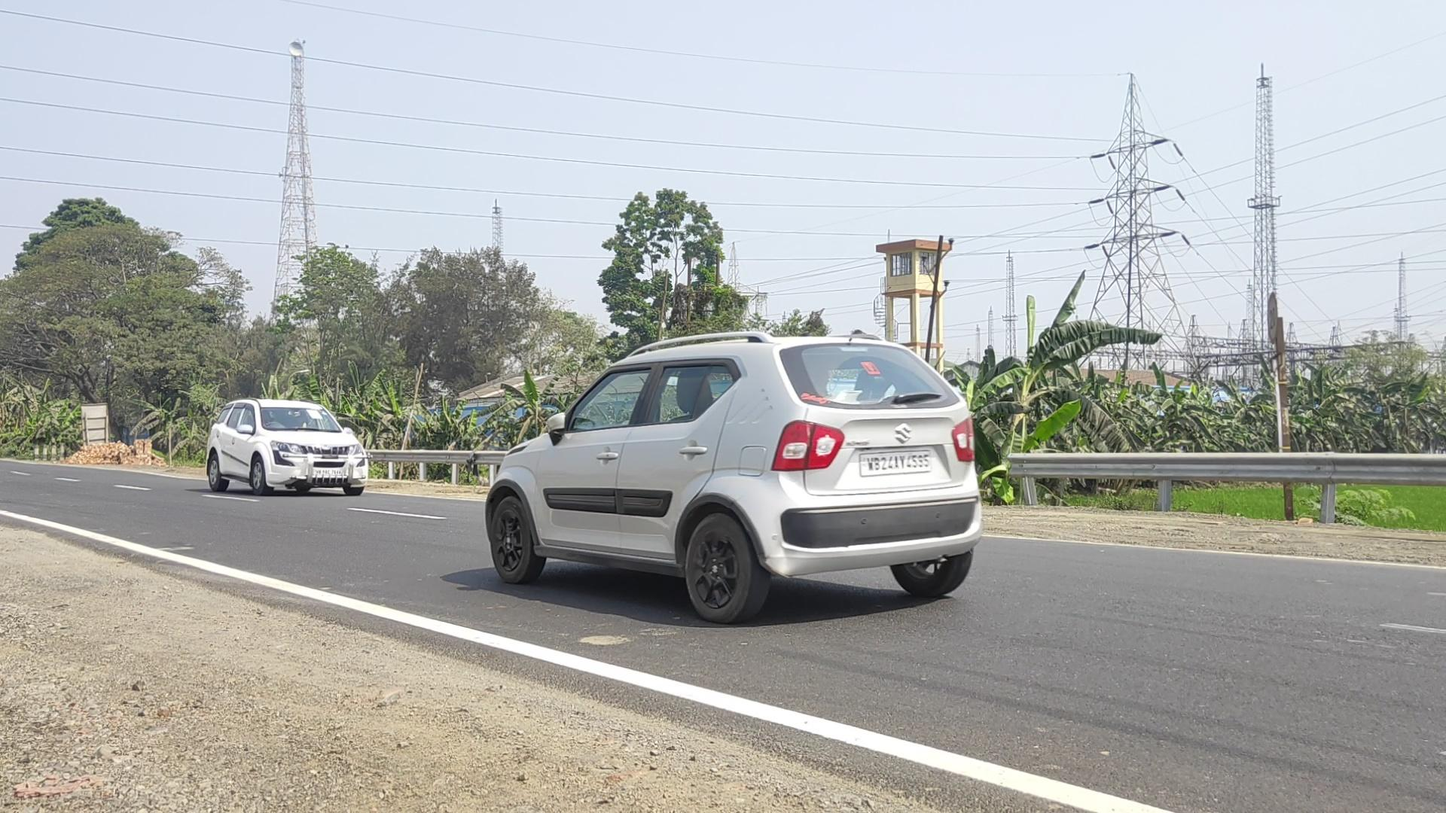car: (485, 329, 983, 624), (206, 398, 368, 498)
